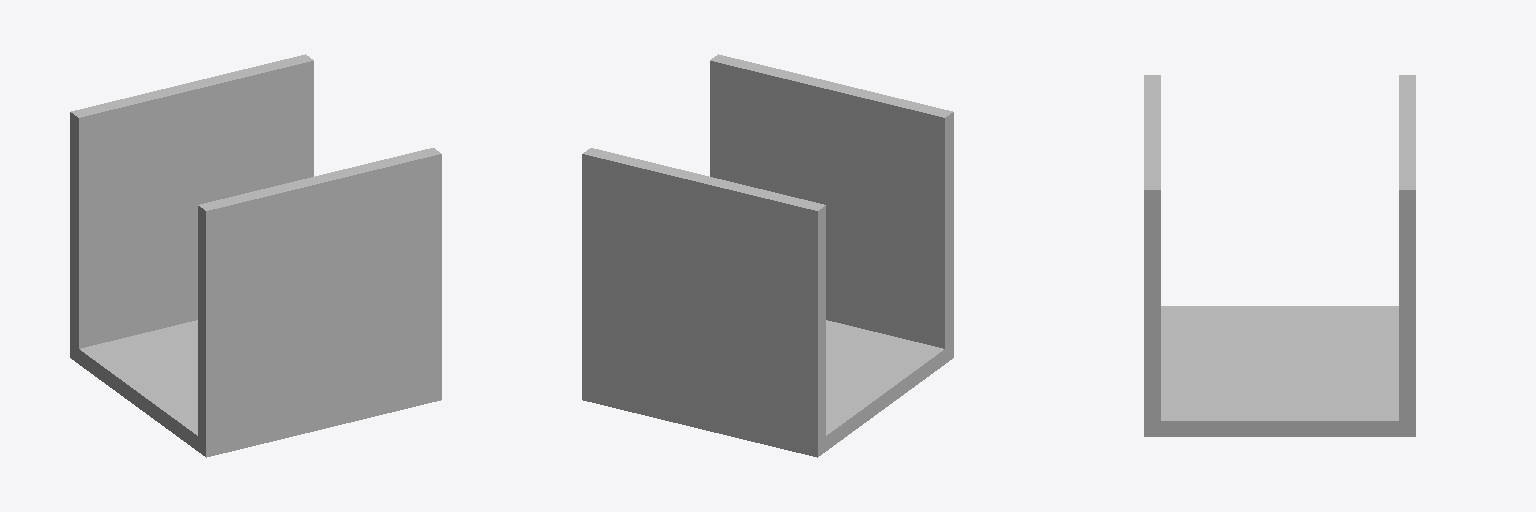
Rendered from straight_h.obj.
3 renders of one model, left to right at view 1: azimuth 30°, elevation 25°; view 2: azimuth 150°, elevation 25°; view 3: azimuth 270°, elevation 25°, orthographic.
Visible parts, largest first — view 1: wall, floor; view 2: wall, floor; view 3: floor, wall.
Part boxes in pixels (left/top/right/bottom): wall: left=70, top=54, right=441, bottom=441; floor: left=70, top=320, right=441, bottom=457; wall: left=582, top=54, right=953, bottom=441; floor: left=582, top=320, right=953, bottom=457; floor: left=1144, top=306, right=1415, bottom=436; wall: left=1144, top=75, right=1415, bottom=420.
Bounding box in the file's own units: 16.01 × 16 × 16.